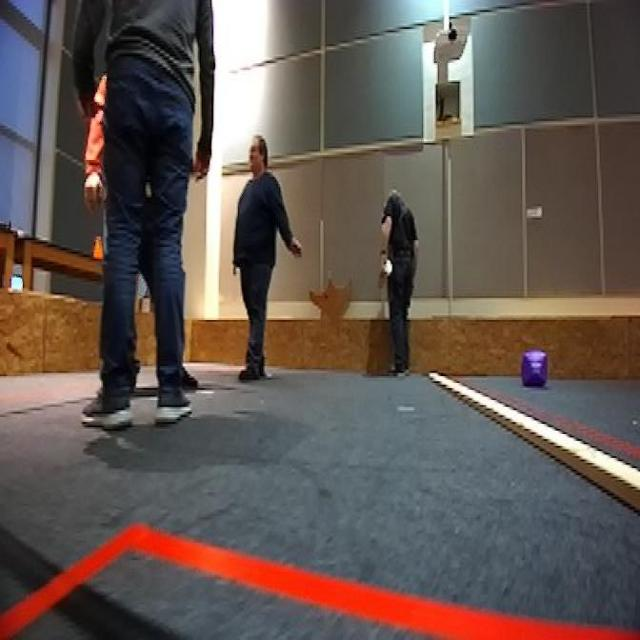frc_cube: (520, 349, 550, 397)
